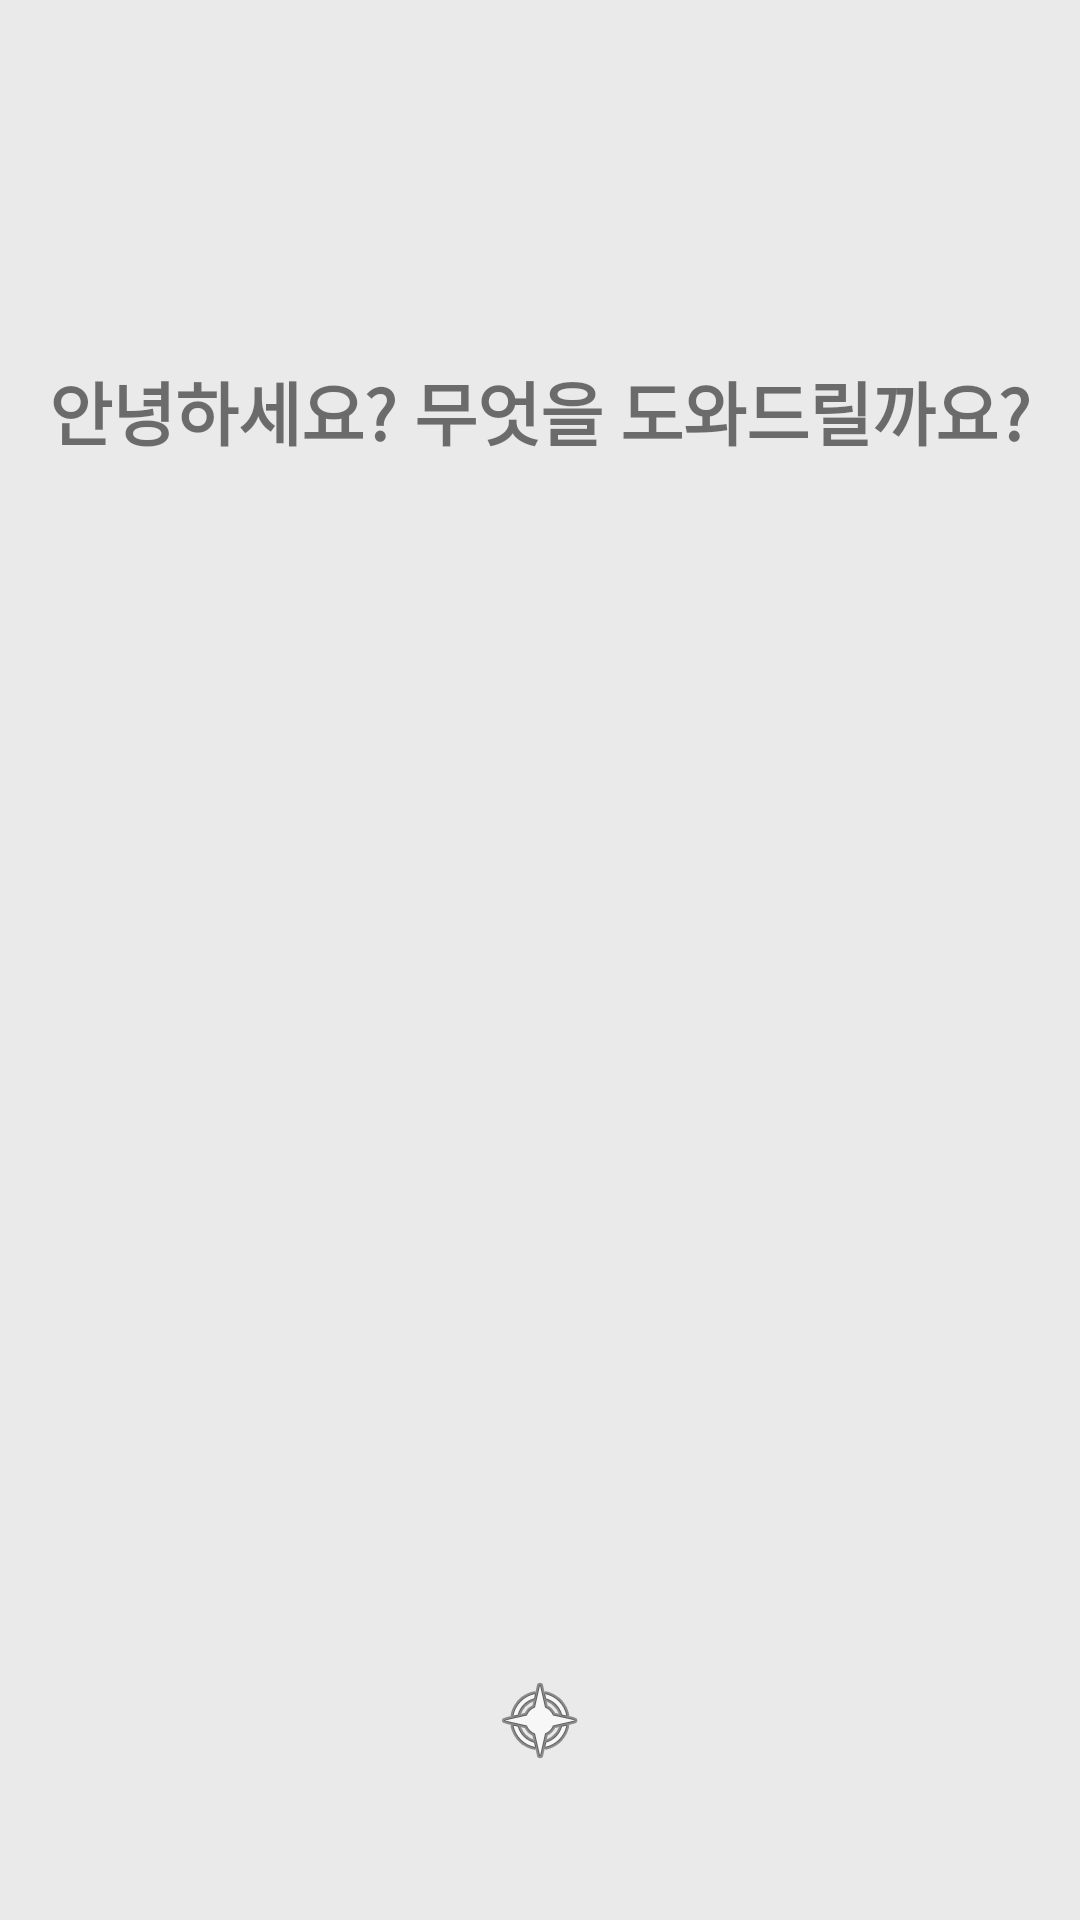

Named icons in this screenshot (1080 × 1920) and their centers, (x=x, y=y):
compass: (x=540, y=1720)
